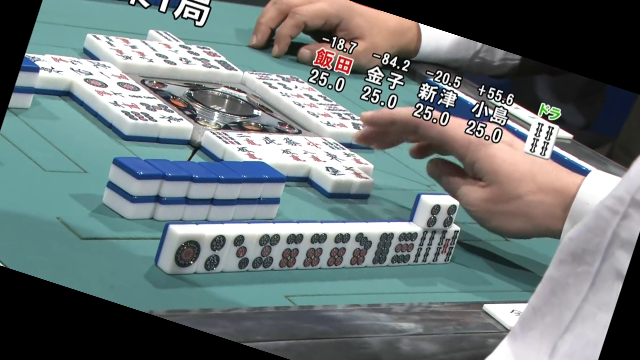Tehai: (161, 216, 468, 274)
